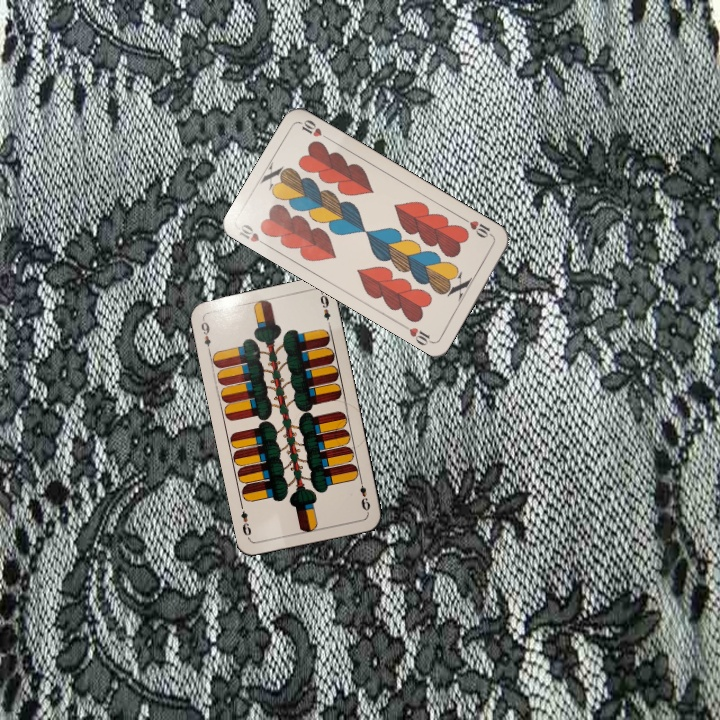E9: (356, 475, 373, 515), (197, 315, 213, 349)
H10: (235, 220, 271, 250), (460, 214, 497, 241)
